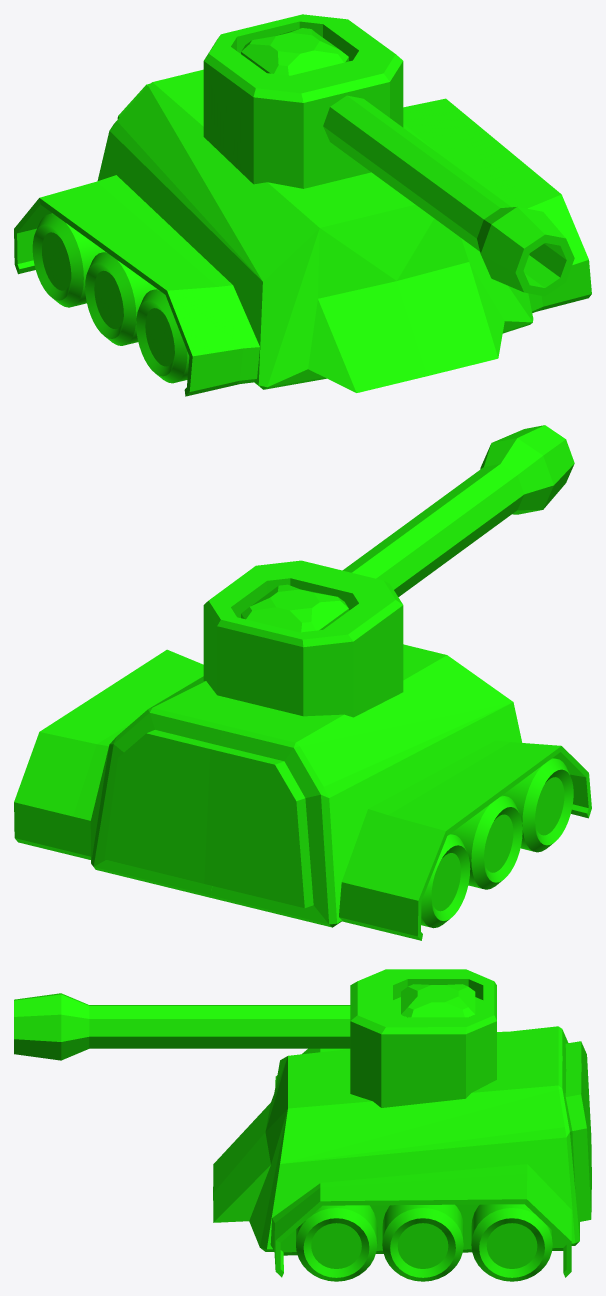
Rendered from Tank.glb.
3 views of the same model, one above another, from view 1: azimuth 30°, elevation 25°; view 2: azimuth 150°, elevation 25°; view 3: azimuth 270°, elevation 25° (orthographic). The views are drawn at different scales.
Parts seen in each view (by area): view 1: Tank.Base, Tank.Tower, Tank.Wheel.003, Tank.Wheel.001, Tank.Wheel.002; view 2: Tank.Base, Tank.Tower, Tank.Wheel.001, Tank.Wheel.002, Tank.Wheel.003; view 3: Tank.Base, Tank.Tower, Tank.Wheel.001, Tank.Wheel.003, Tank.Wheel.002.
Part boxes in pixels (x1,y1,x2,y2): Tank.Base: (14,69,591,396); Tank.Tower: (203,14,574,296); Tank.Wheel.003: (32,213,104,307); Tank.Wheel.001: (85,251,156,345); Tank.Wheel.002: (136,289,189,383); Tank.Base: (14,644,591,940); Tank.Tower: (203,425,574,717); Tank.Wheel.001: (450,795,522,889); Tank.Wheel.002: (502,758,573,852); Tank.Wheel.003: (421,834,470,928); Tank.Base: (213,1026,591,1277); Tank.Tower: (14,969,496,1107); Tank.Wheel.001: (382,1204,463,1281); Tank.Wheel.003: (471,1204,552,1281); Tank.Wheel.002: (296,1205,377,1281).
Bounding box in the file's own units: 2.55 × 1.47 × 3.7.
